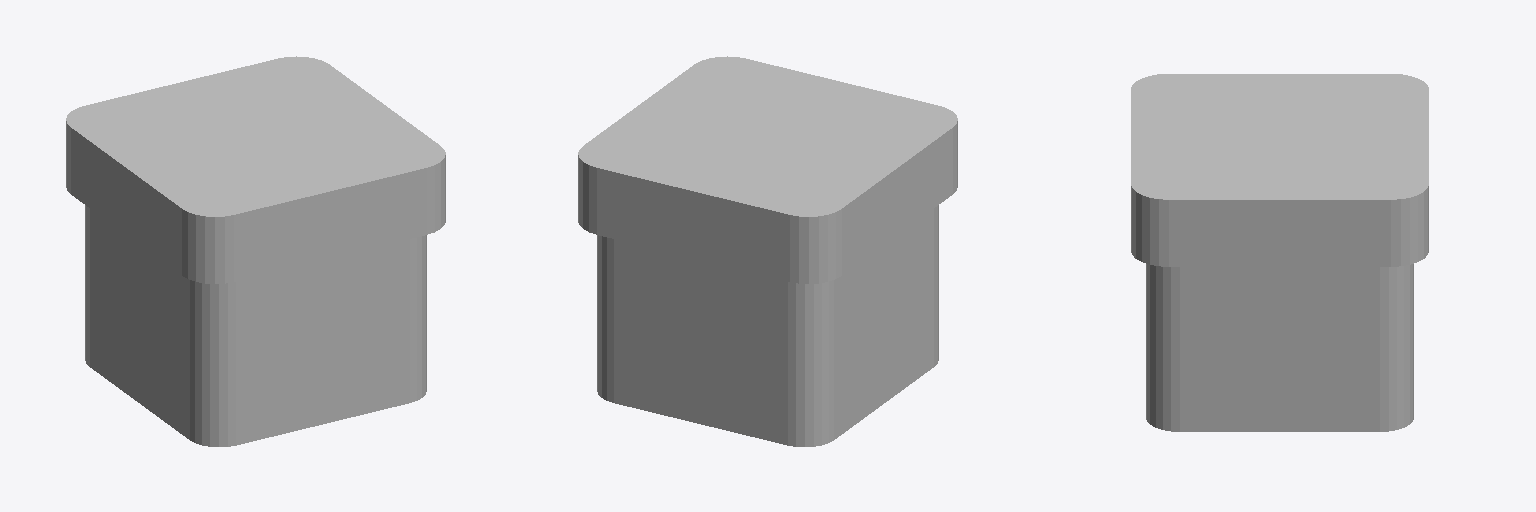
File: 25mmSquare.obj
3 renders of one model, left to right at view 1: azimuth 30°, elevation 25°; view 2: azimuth 150°, elevation 25°; view 3: azimuth 270°, elevation 25°, orthographic.
Visible parts, largest first — view 1: 25mmSquare.001, 25mmSquare.002; view 2: 25mmSquare.001, 25mmSquare.002; view 3: 25mmSquare.001, 25mmSquare.002.
Part boxes in pixels (x1,y1,x2,y2): 25mmSquare.001: (66,56,445,283); 25mmSquare.002: (85,205,426,446); 25mmSquare.001: (578,56,957,283); 25mmSquare.002: (597,205,938,446); 25mmSquare.001: (1131,74,1428,266); 25mmSquare.002: (1146,264,1413,431).
Bounding box in the file's own units: 25.4 × 22.4 × 25.4.